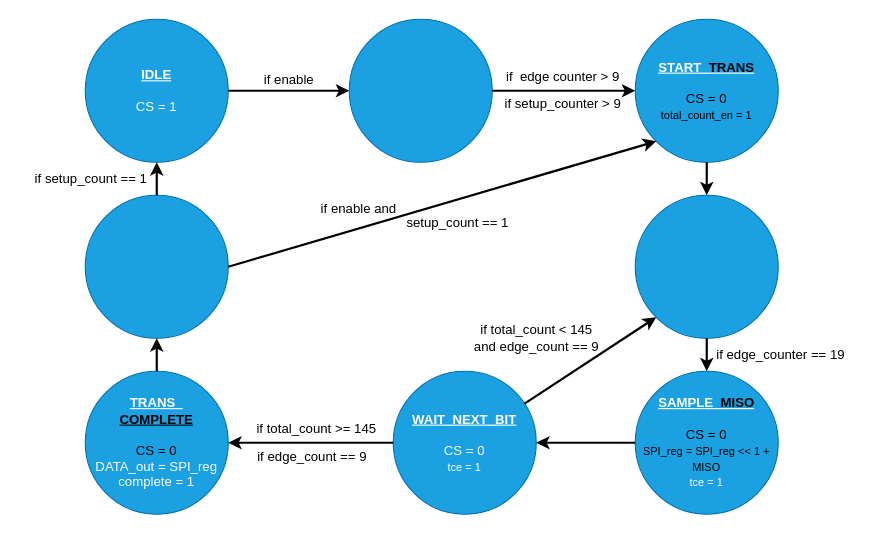
This 876x534 diagram has some shape labels left out. Here are the shapes that lost their labels. From the top down, the centre of each, then its label:
At (x=420, y=90): "CS_SETUP CS = 1 setup_counter_en=1".
At (x=156, y=266): "STOP_OR_ NOT CS = 0 setup_counter_en=1".
At (x=706, y=266): "SET_MOSI CS = 0 MOSI = SPI_reg[7] tce = 1".
